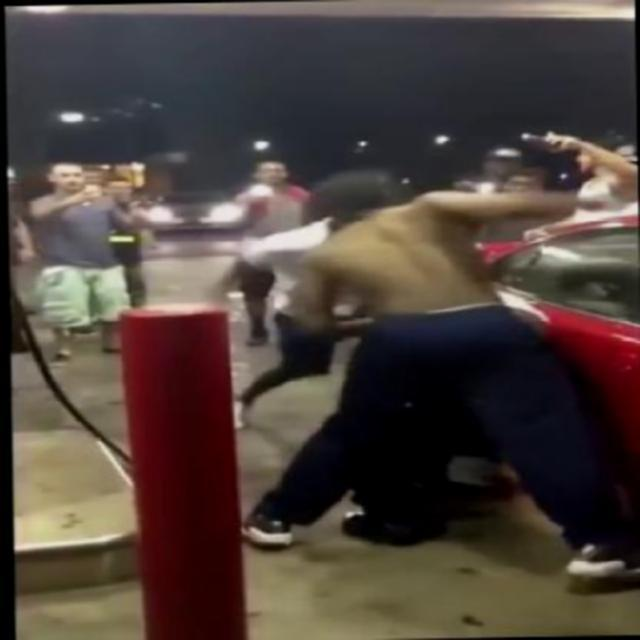fight: (235, 172, 628, 578)
non-fight: (28, 158, 144, 364)
